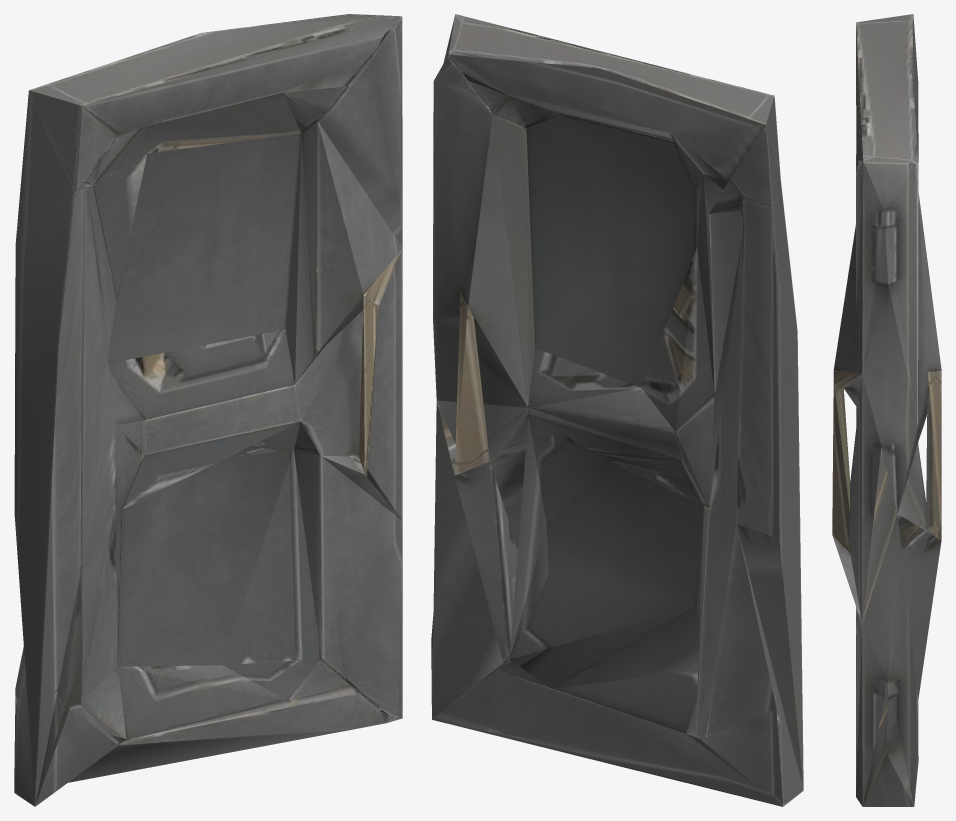
File: imperial_governor_palace__entrance_door_leaf_lod1.glb
The picture shows the model from 3 angles, left to right: view 1: azimuth 30°, elevation 25°; view 2: azimuth 150°, elevation 25°; view 3: azimuth 270°, elevation 25°; orthographic projection. The views are drawn at different scales.
Parts seen in each view (by area): view 1: mesh_node; view 2: mesh_node; view 3: mesh_node.
Part boxes in pixels (<box>): mesh_node: <box>14,14,402,806</box>; mesh_node: <box>431,14,803,806</box>; mesh_node: <box>832,14,941,806</box>.
Bounding box in the file's own units: 2.04 × 3.7 × 0.5596.
1 material, 1 textured.
